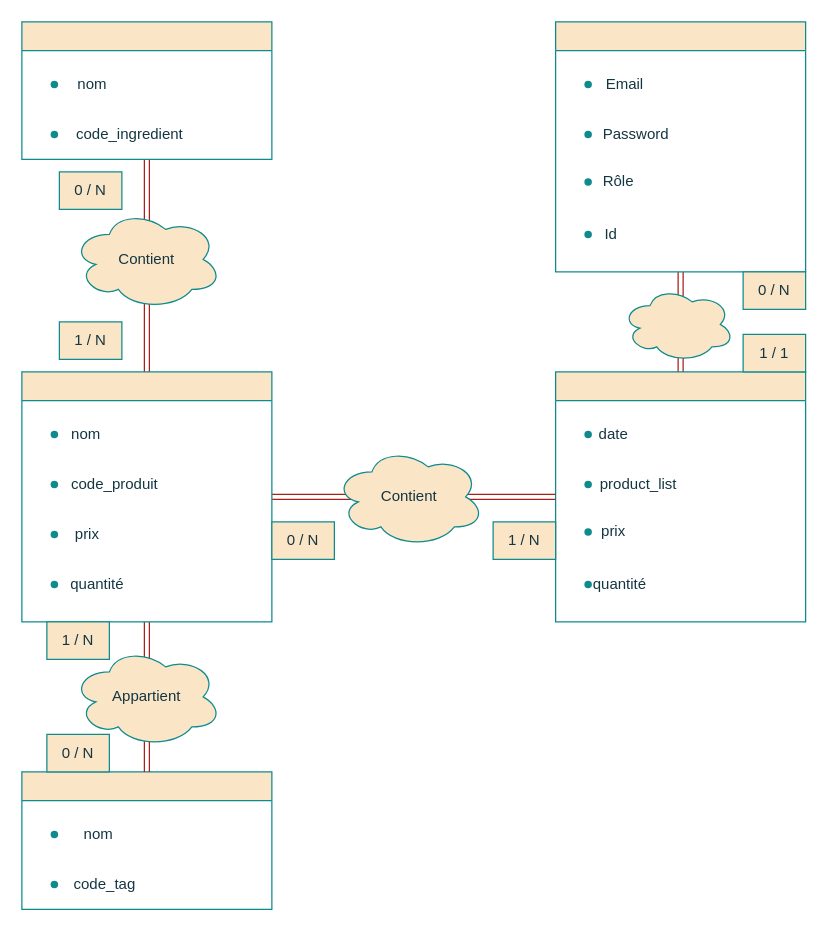
Image size: 828x931. Some labels were removed from this diagram. The shapes that lost their labels are listed below. From the top down, each one's box as (x1, y1, x2, y2) in pixels, then its label:
(21, 21, 272, 159): INGREDIENTS
(554, 21, 806, 272): PROFIL
(621, 286, 734, 362): Crée
(21, 371, 272, 622): PRODUITS
(554, 371, 806, 622): COMMANDES
(21, 771, 272, 909): CATEGORIES (TAGS)
